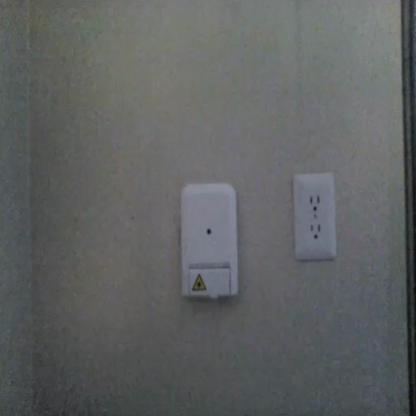OUTLET: (292, 172, 336, 259)
